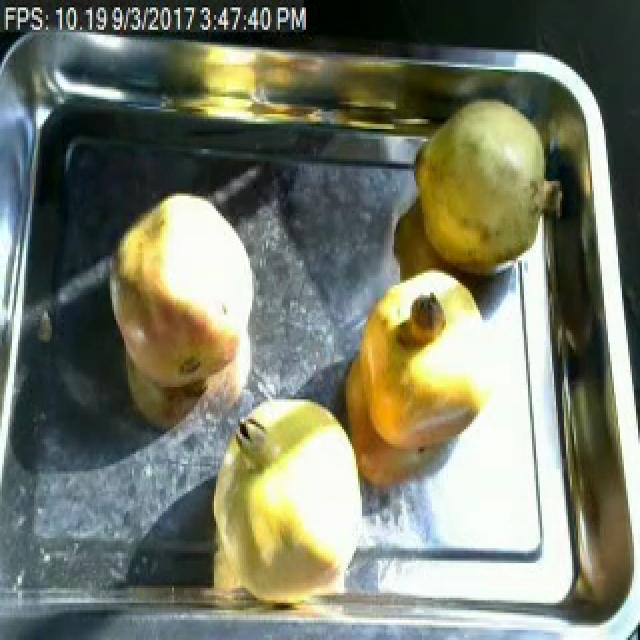fruit: (196, 387, 378, 623), (98, 179, 262, 409), (346, 265, 502, 469), (406, 84, 562, 283)
